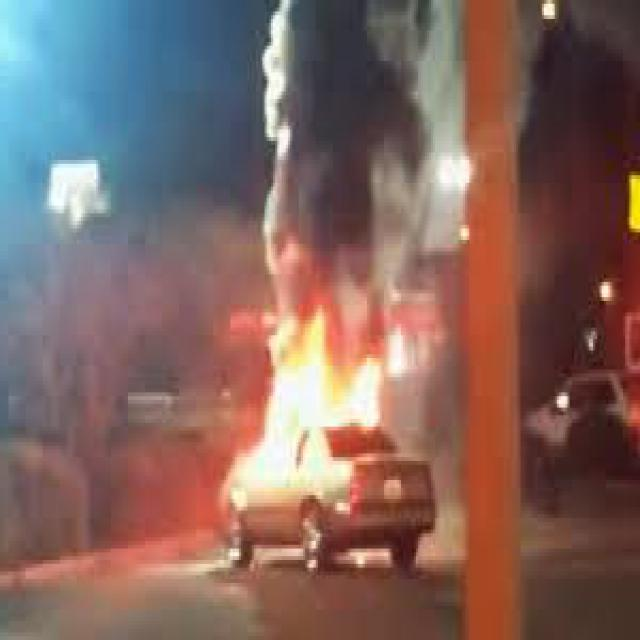Fire: (225, 303, 400, 510)
Smoke: (240, 0, 468, 295)
